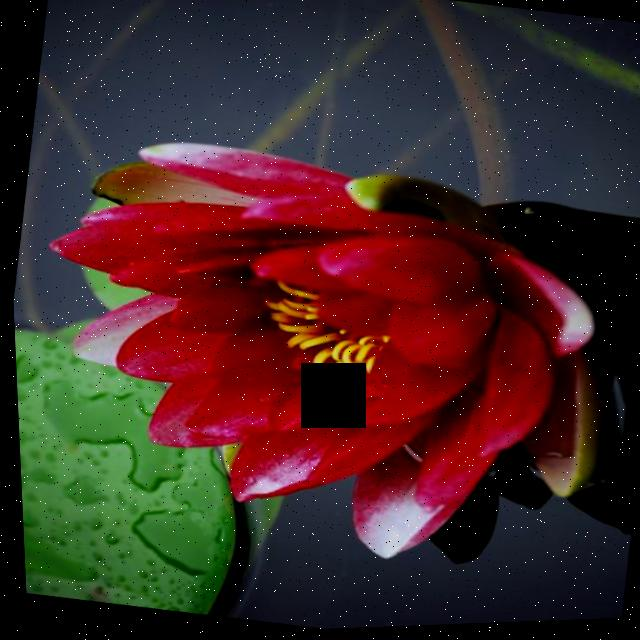water-lily: (2, 52, 640, 637)
